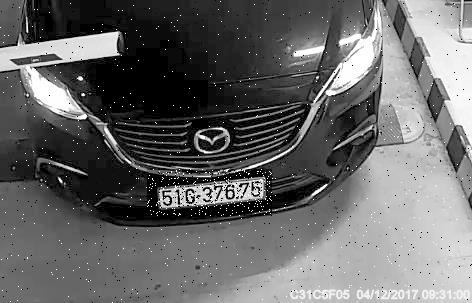License-plate: (149, 170, 275, 217)
